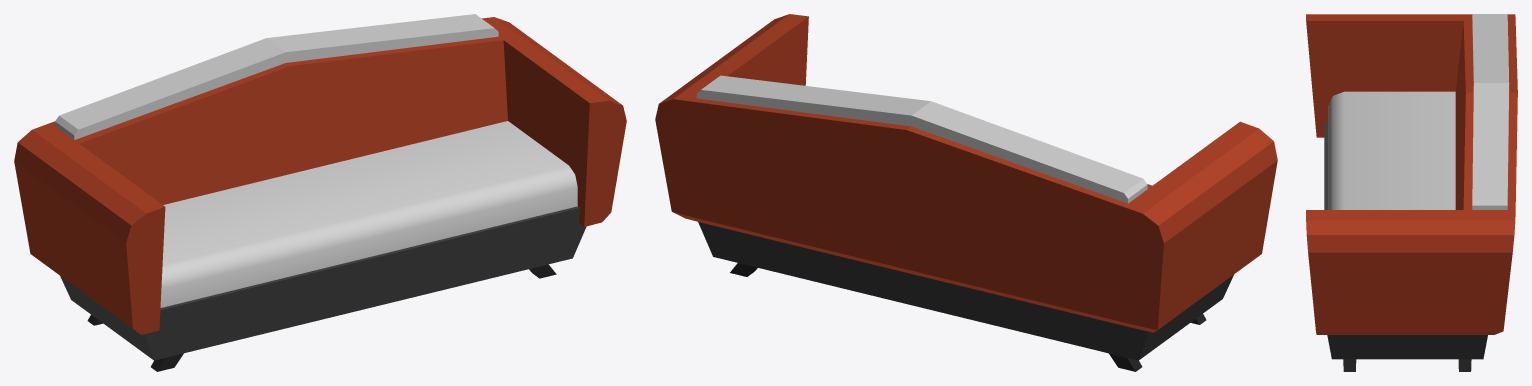
File: sofa_1.glb
3 renders of one model, left to right at view 1: azimuth 30°, elevation 25°; view 2: azimuth 150°, elevation 25°; view 3: azimuth 270°, elevation 25°, orthographic. The views are drawn at different scales.
Parts seen in each view (by area): view 1: Sofa_1; view 2: Sofa_1; view 3: Sofa_1.
Part boxes in pixels (x1,y1,x2,y2): Sofa_1: (14,14,626,371); Sofa_1: (655,14,1277,371); Sofa_1: (1306,14,1517,371).
Size of the model in its own units: 2.38 by 0.9931 by 0.9536.
1 material, 1 textured.
